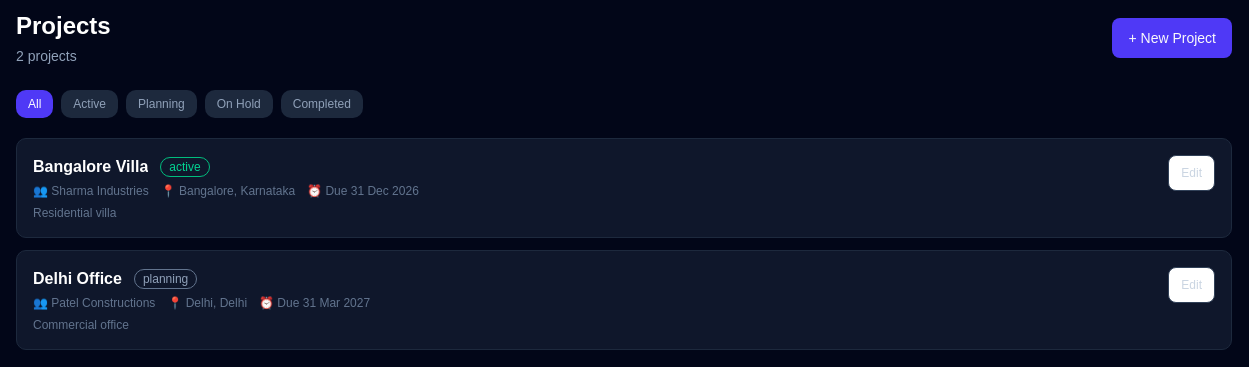
filters projects by status
The width and height of the screenshot is (1249, 367).
Click the button "active" at (90, 104), box [61, 90, 118, 118]
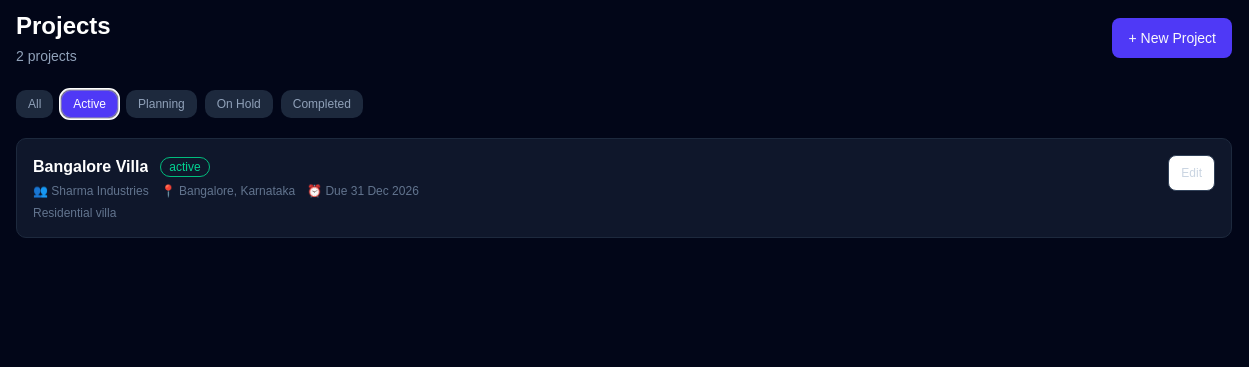
Check: the heading "Bangalore Villa" is shown, box [33, 155, 148, 179]
Check: the heading "Delhi Office" is gone
